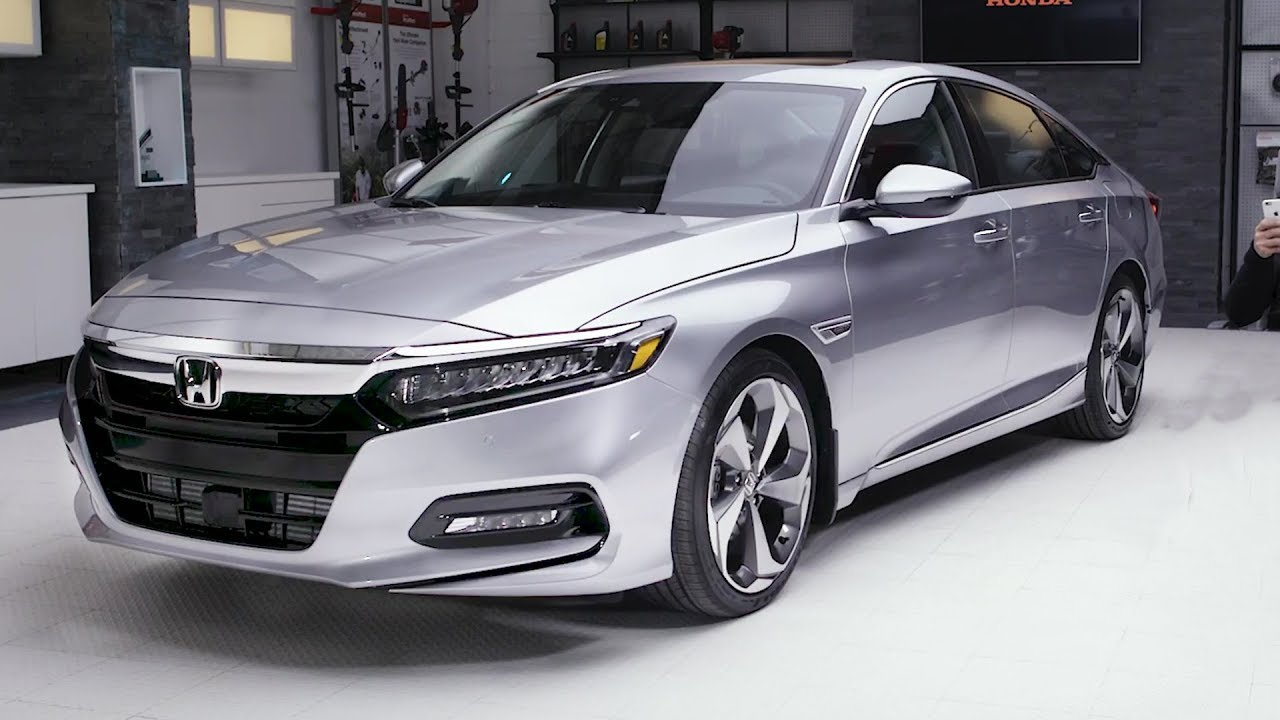accord: (38, 44, 1192, 644)
